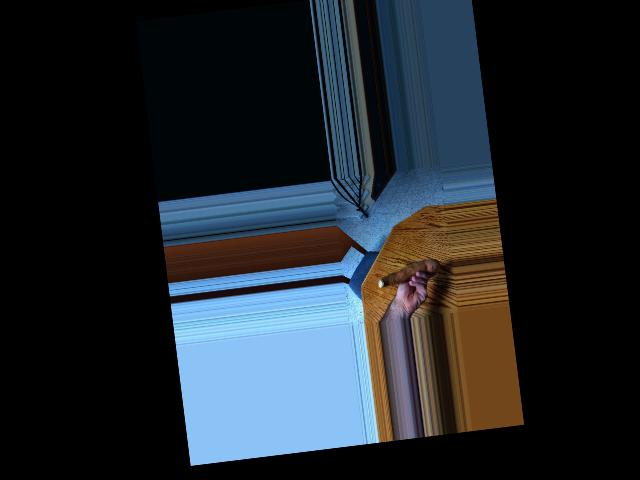sweet_potato: (378, 255, 439, 290)
